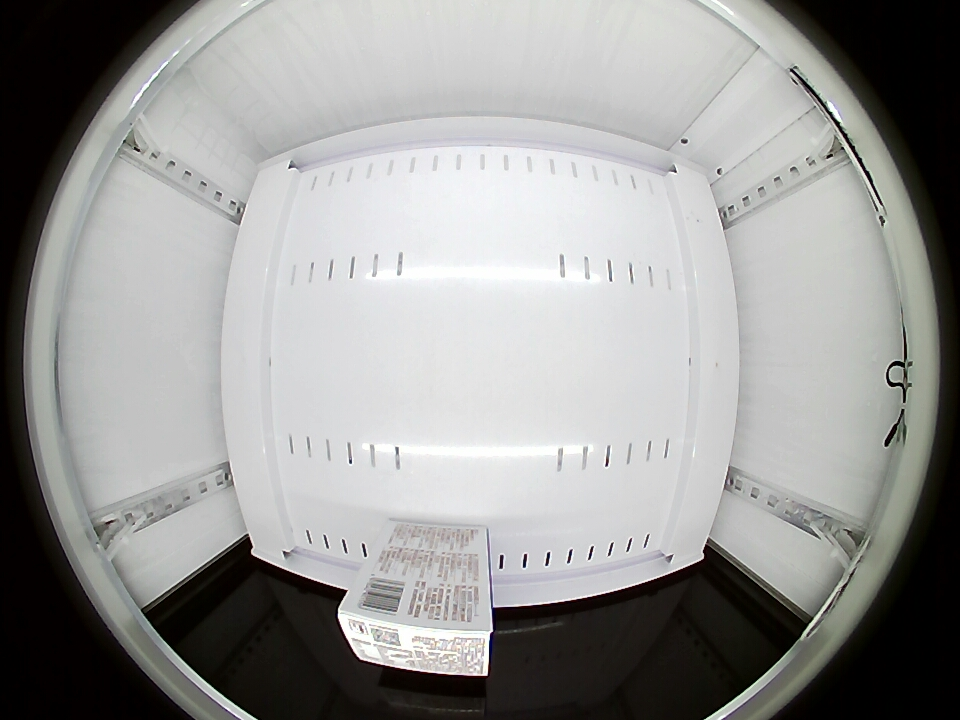meiniye: (338, 578, 494, 677)
